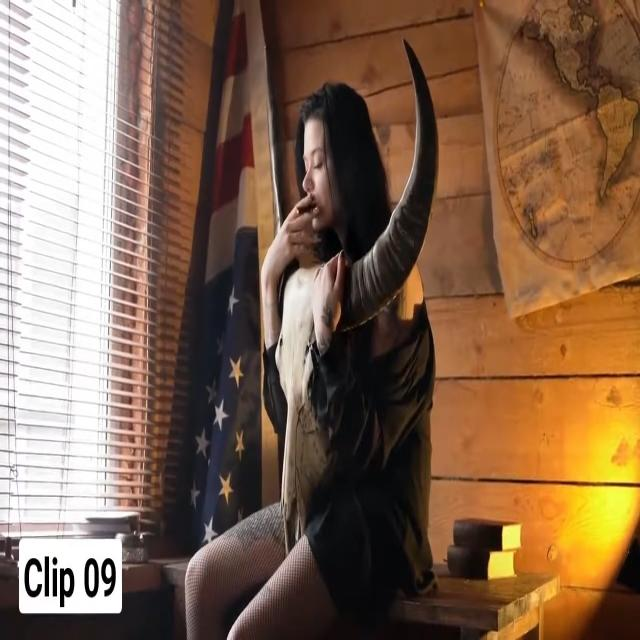Курение: (296, 201, 322, 223)
